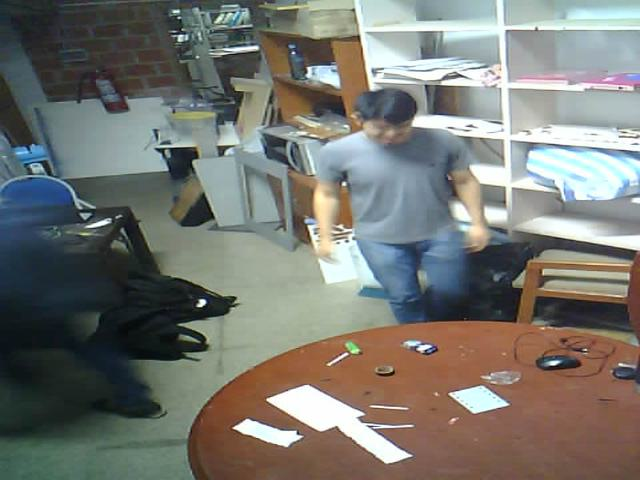person: (284, 55, 507, 349), (0, 157, 187, 461)
